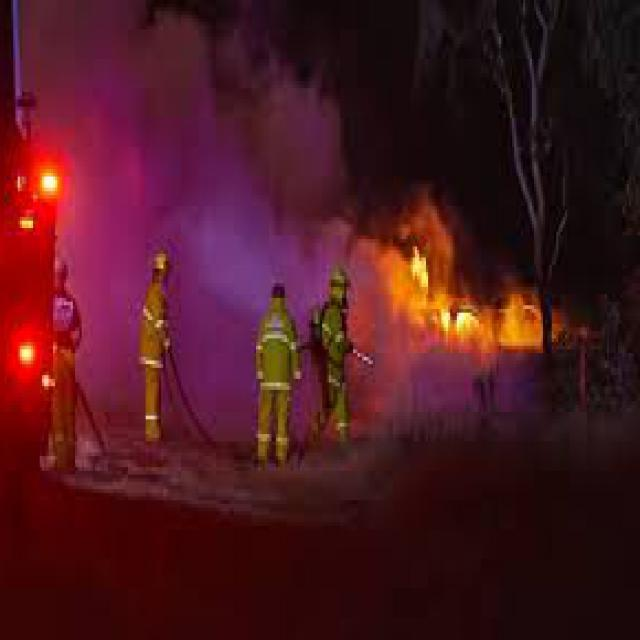Fire: (395, 195, 548, 373)
Smoke: (61, 0, 336, 243)
